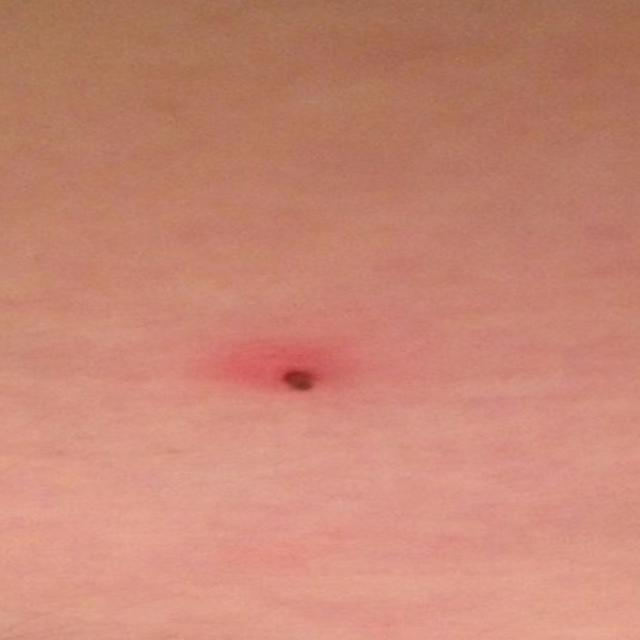kene: (257, 356, 339, 404)
